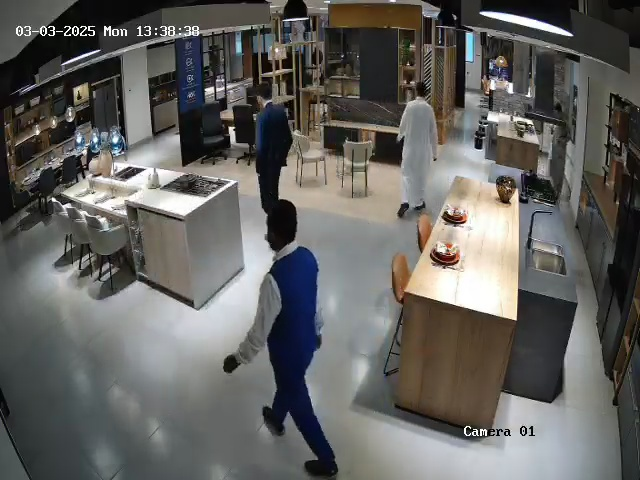employee: (222, 199, 339, 478), (254, 83, 293, 215)
male: (396, 81, 439, 218)
